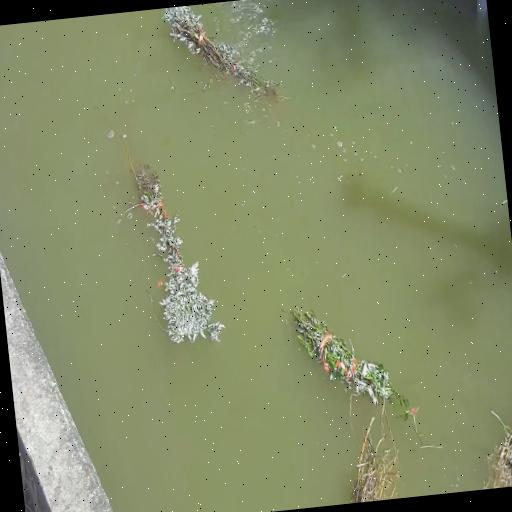twig: (120, 136, 223, 343), (290, 307, 407, 405), (163, 6, 277, 95), (346, 387, 401, 502), (484, 411, 511, 488)
